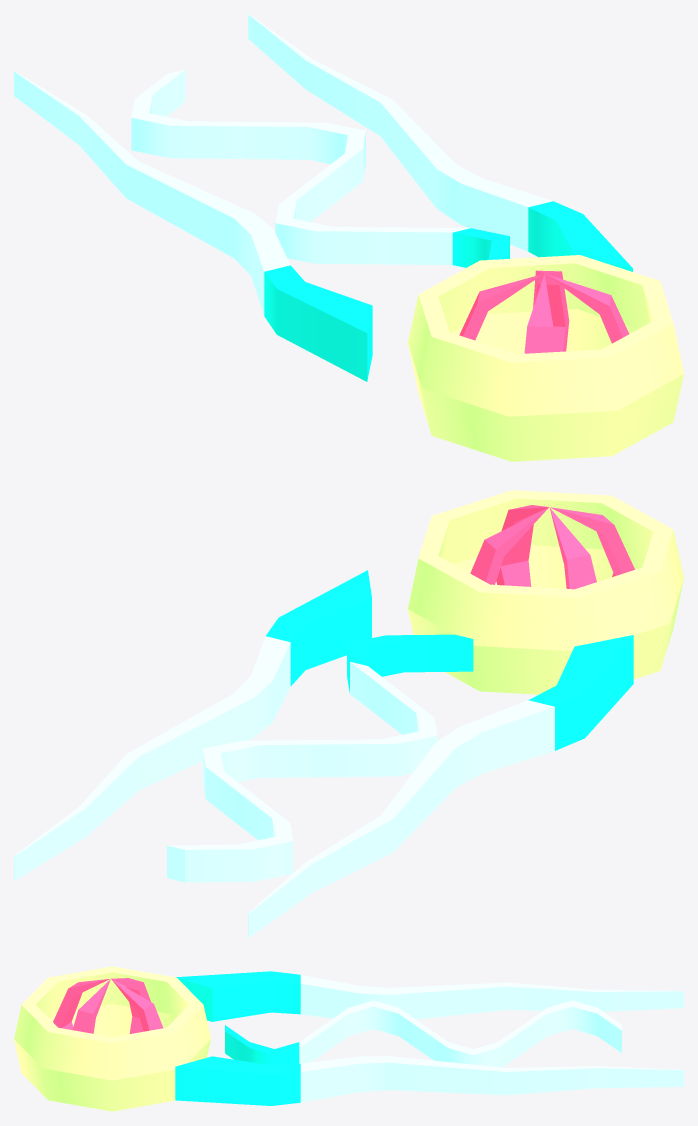
Rendered from uturn_glow_01.fbx.
3 views of the same model, one above another, from view 1: azimuth 30°, elevation 25°; view 2: azimuth 150°, elevation 25°; view 3: azimuth 270°, elevation 25° (orthographic). The views are drawn at different scales.
Parts seen in each view (by area): view 1: pSphere86; view 2: pSphere86; view 3: pSphere86.
Part boxes in pixels (left/top/right/bottom): pSphere86: left=14, top=14, right=683, bottom=461; pSphere86: left=14, top=490, right=683, bottom=937; pSphere86: left=14, top=966, right=683, bottom=1111.
Bounding box in the file's own units: 9.83 × 5.28 × 26.99.
